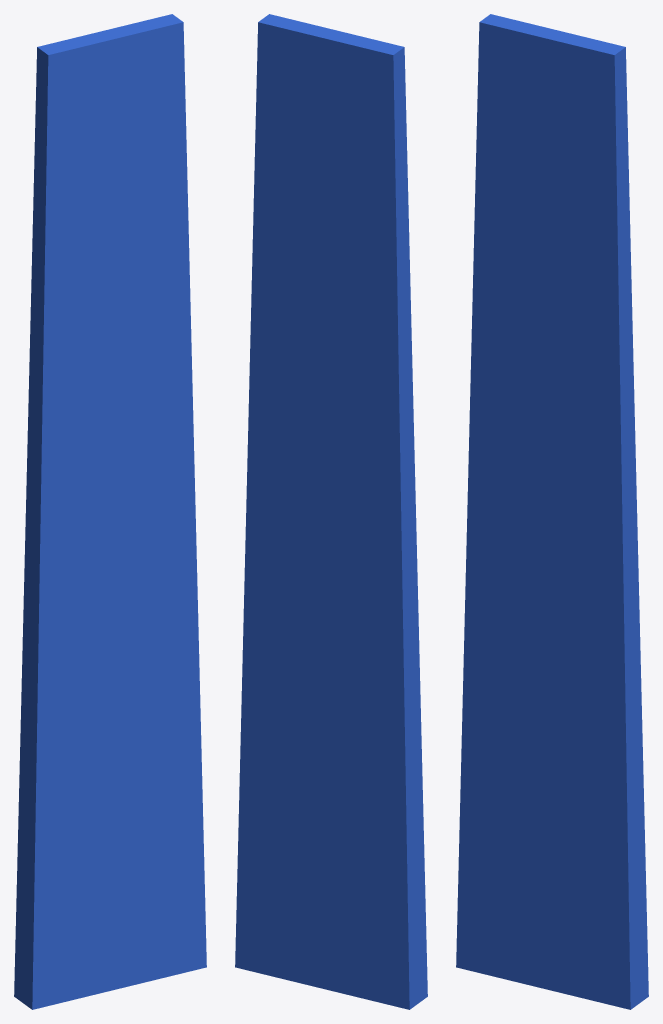
File: Collision_Ladder.fbx
3 views of the same model, side by side, from view 1: azimuth 30°, elevation 25°; view 2: azimuth 150°, elevation 25°; view 3: azimuth 330°, elevation 25° (orthographic).
Parts seen in each view (by area): view 1: UCX_Ladder_1; view 2: UCX_Ladder_1; view 3: UCX_Ladder_1.
Part boxes in pixels (x1=…): UCX_Ladder_1: x1=14, y1=14, x2=206, y2=1009; UCX_Ladder_1: x1=235, y1=14, x2=427, y2=1009; UCX_Ladder_1: x1=456, y1=14, x2=648, y2=1009.
Size of the model in its own units: 56.12 by 291 by 10.16.
